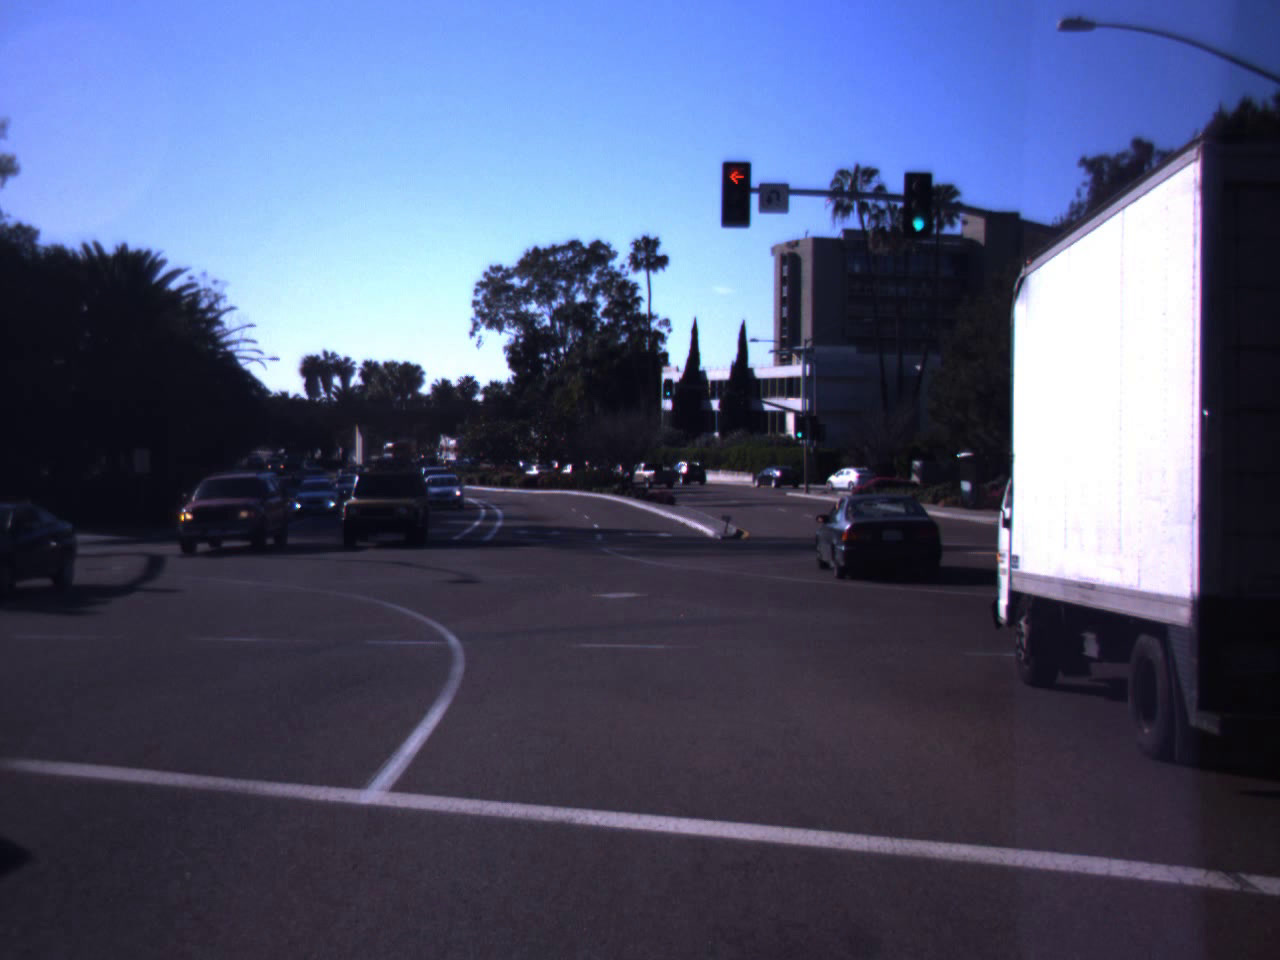go: (908, 189, 929, 234)
stop: (711, 162, 765, 225)
